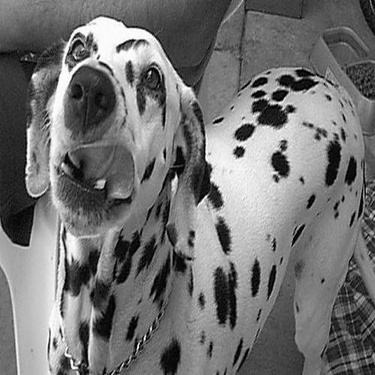dog: (16, 9, 373, 374)
